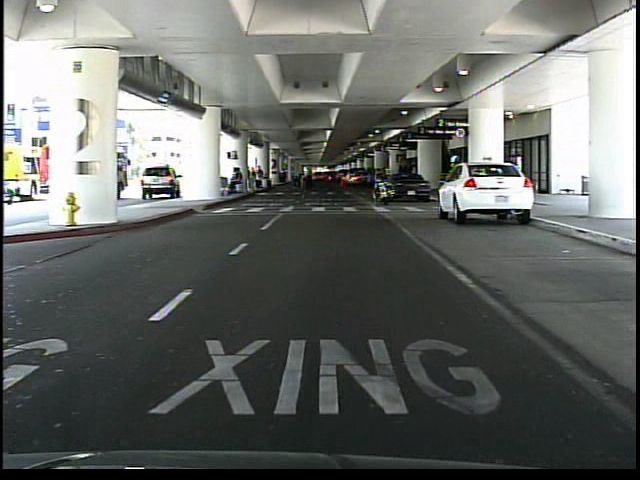person: (445, 151, 464, 217)
